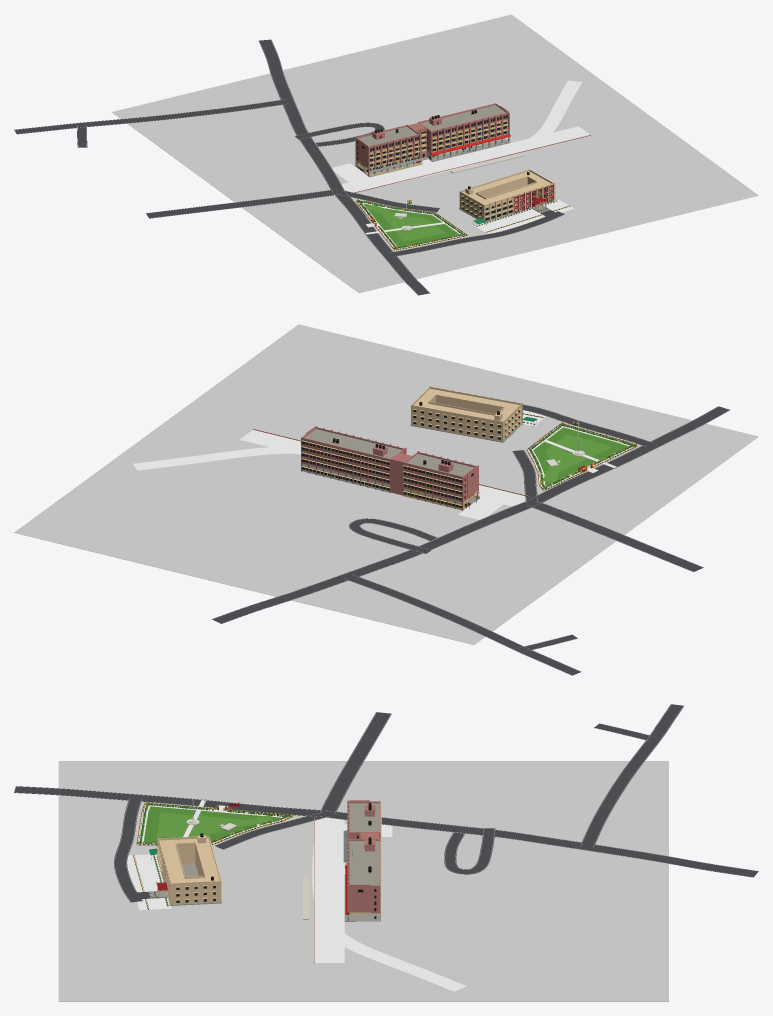
File: knit-csa.glb
The picture shows the model from 3 angles, top to bottom: view 1: azimuth 30°, elevation 25°; view 2: azimuth 150°, elevation 25°; view 3: azimuth 270°, elevation 25°; orthographic projection. The views are drawn at different scales.
Parts seen in each view (by area): view 1: CSA_Ground, CSA_Roads, Alumni_Park_Ground, Admin_Block_Shell, CSA_Block_Front_Facade, CSA_Block_Shell, Academic_Block_Front_Facade, Admin_Block_Front, Admin_Forecourt, Academic_Block_Shell, Alumni_Park_Fence, CSA_Block_Ground_Floor; view 2: CSA_Ground, CSA_Roads, Admin_Block_Shell, Alumni_Park_Ground, CSA_Block_Shell, Academic_Block_Shell, CSA_Block_Back_Facade, Academic_Block_Back_Facade, Alumni_Park_Fence, Admin_Block_Windows; view 3: CSA_Ground, CSA_Roads, Alumni_Park_Ground, Admin_Block_Shell, CSA_Block_Shell, Admin_Forecourt, Alumni_Park_Fence, Academic_Block_Shell, CSA_Block_End_Walls.
Boxes of the visible parts, left/top/right/bottom form: CSA_Ground: left=112, top=14, right=758, bottom=293; CSA_Roads: left=14, top=39, right=581, bottom=295; Alumni_Park_Ground: left=357, top=199, right=465, bottom=249; Admin_Block_Shell: left=459, top=169, right=554, bottom=223; CSA_Block_Front_Facade: left=430, top=112, right=509, bottom=153; CSA_Block_Shell: left=418, top=103, right=507, bottom=157; Academic_Block_Front_Facade: left=367, top=133, right=421, bottom=169; Admin_Block_Front: left=483, top=183, right=555, bottom=222; Admin_Forecourt: left=473, top=199, right=569, bottom=232; Academic_Block_Shell: left=355, top=125, right=419, bottom=173; Alumni_Park_Fence: left=356, top=199, right=467, bottom=250; CSA_Block_Ground_Floor: left=428, top=137, right=510, bottom=161; CSA_Ground: left=14, top=324, right=758, bottom=644; CSA_Roads: left=133, top=404, right=729, bottom=675; Admin_Block_Shell: left=410, top=386, right=522, bottom=442; Alumni_Park_Ground: left=527, top=420, right=633, bottom=489; CSA_Block_Shell: left=302, top=427, right=404, bottom=492; Academic_Block_Shell: left=404, top=452, right=475, bottom=510; CSA_Block_Back_Facade: left=301, top=437, right=390, bottom=492; Academic_Block_Back_Facade: left=402, top=462, right=463, bottom=510; Alumni_Park_Fence: left=526, top=422, right=637, bottom=490; Admin_Block_Windows: left=412, top=408, right=520, bottom=439; CSA_Ground: left=58, top=761, right=668, bottom=1001; CSA_Roads: left=14, top=704, right=758, bottom=991; Alumni_Park_Ground: left=137, top=787, right=289, bottom=844; Admin_Block_Shell: left=158, top=833, right=221, bottom=905; CSA_Block_Shell: left=349, top=839, right=380, bottom=921; Admin_Forecourt: left=133, top=848, right=171, bottom=909; Alumni_Park_Fence: left=136, top=801, right=292, bottom=845; Academic_Block_Shell: left=349, top=801, right=380, bottom=838; CSA_Block_End_Walls: left=349, top=884, right=376, bottom=918.
Size of what is drawn, in the model's own units: 346 by 25.79 by 366.
